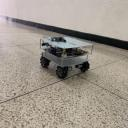cart: (40, 36, 94, 78)
